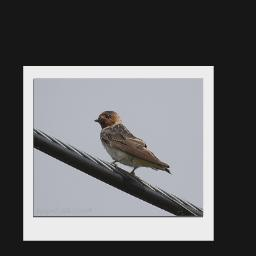Swallow: (93, 109, 174, 179)
